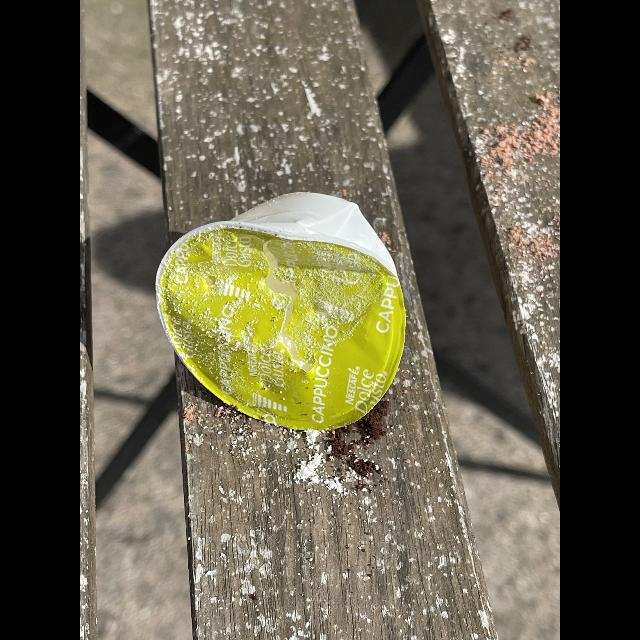damaged_capsule: (146, 181, 434, 449)
